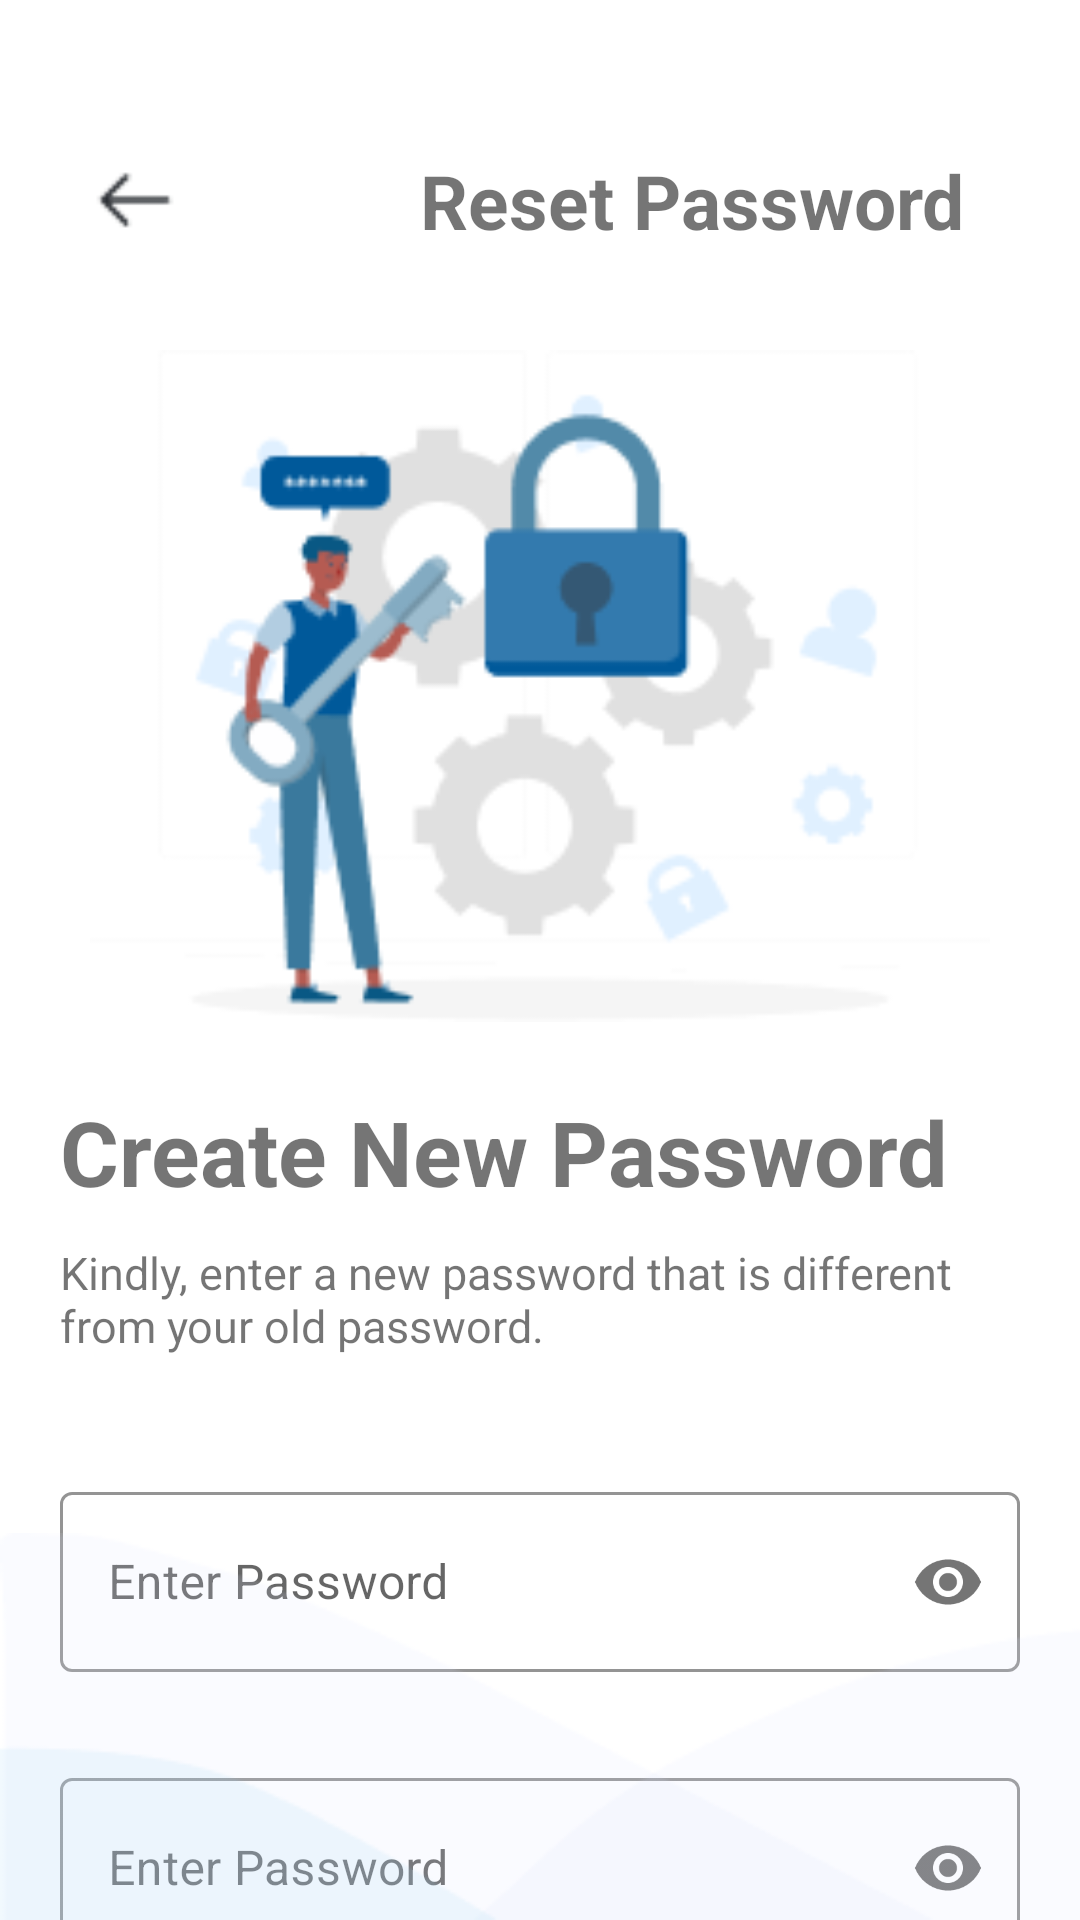

Icons on this 1080×1920 Android screen, each with the point to tap as point (x, y):
arrow left: point (135, 200)
